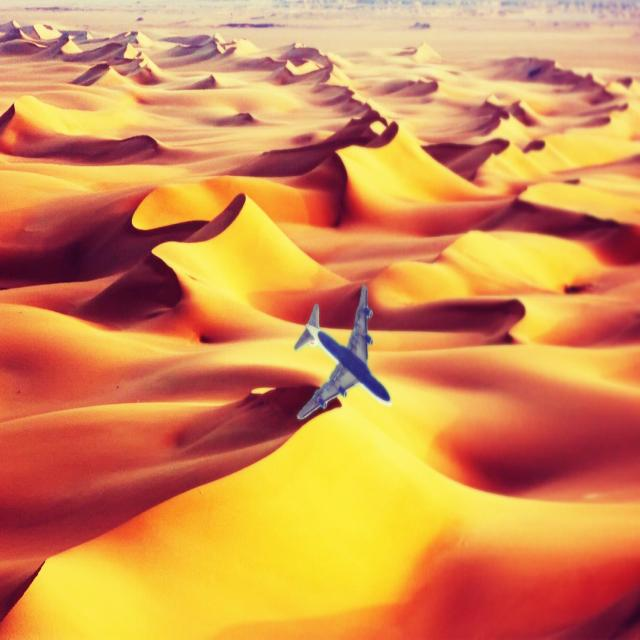airplane: (294, 282, 391, 420)
